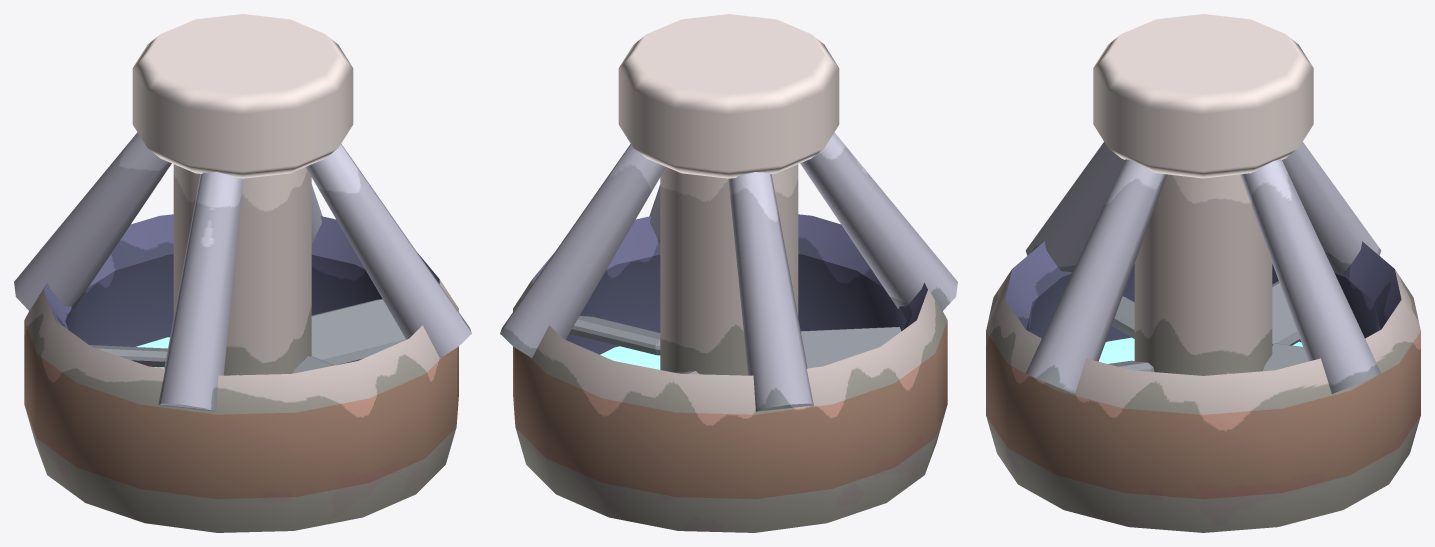
The model's file is R4X_HoverEngine_LOD1.glb.
3 views of the same model, side by side, from view 1: azimuth 30°, elevation 25°; view 2: azimuth 150°, elevation 25°; view 3: azimuth 270°, elevation 25° (orthographic).
Visible parts, largest first — view 1: R4X_HoverEngine_LOD1; view 2: R4X_HoverEngine_LOD1; view 3: R4X_HoverEngine_LOD1.
Part boxes in pixels (x1=…): R4X_HoverEngine_LOD1: x1=14, y1=14, x2=471, y2=532; R4X_HoverEngine_LOD1: x1=500, y1=14, x2=957, y2=532; R4X_HoverEngine_LOD1: x1=986, y1=14, x2=1420, y2=532.
Size of the model in its own units: 0.5116 by 0.52 by 0.5138.
Materials: 5 (4 with a texture image).
